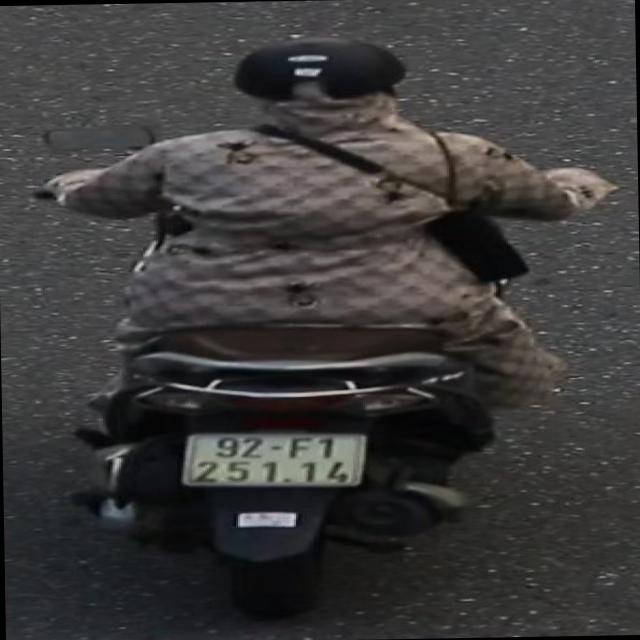LP: (174, 426, 377, 498)
helmet: (224, 32, 423, 144)
